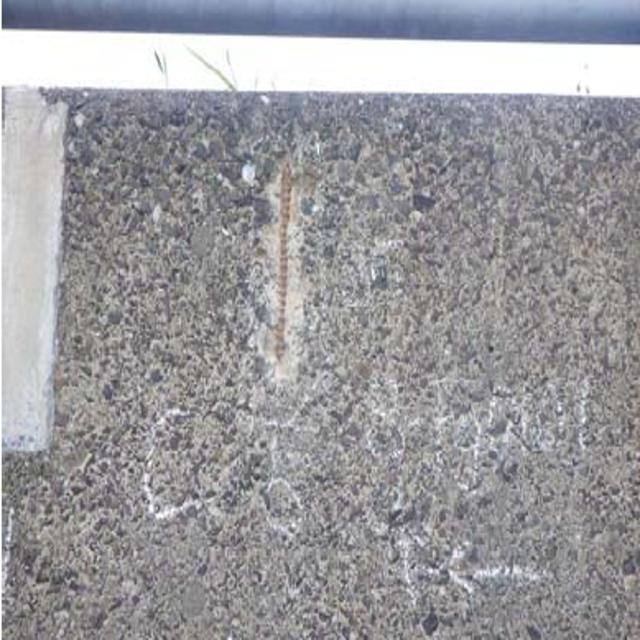spalling: (243, 142, 314, 397)
